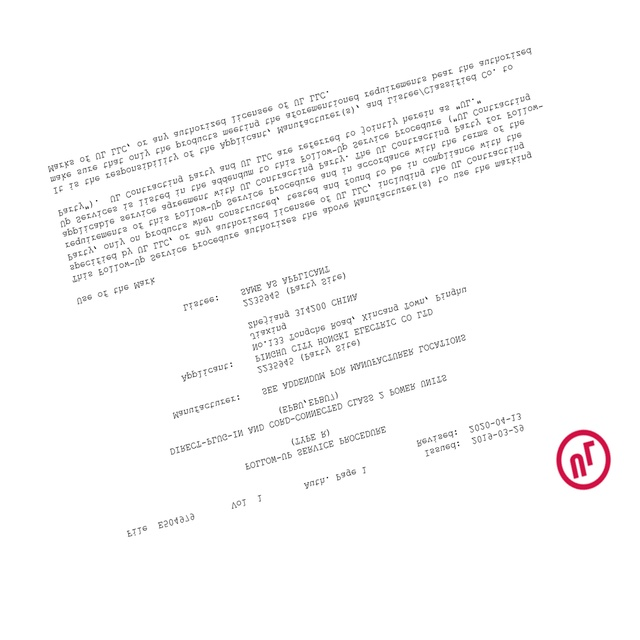ul: (554, 428, 611, 489)
